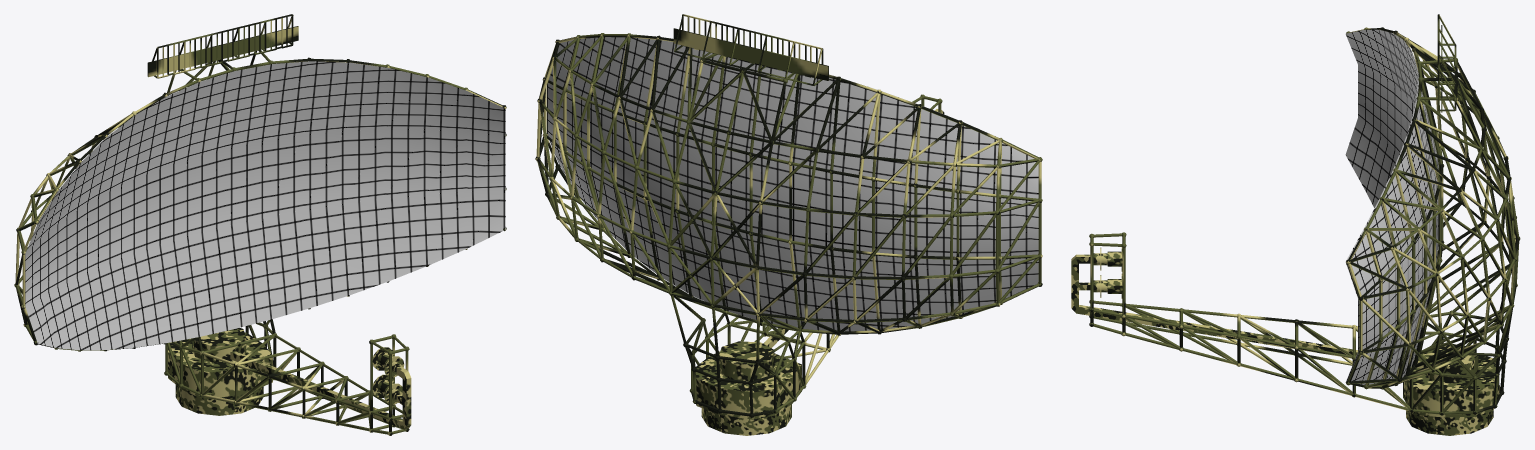
The model's file is part_rotating.fbx.
3 views of the same model, side by side, from view 1: azimuth 30°, elevation 25°; view 2: azimuth 150°, elevation 25°; view 3: azimuth 270°, elevation 25° (orthographic). The views are drawn at different scales.
Visible parts, largest first — view 1: 3d66-Editable_Poly-20185282-001; view 2: 3d66-Editable_Poly-20185282-001; view 3: 3d66-Editable_Poly-20185282-001.
Boxes of the visible parts, bbox=[...] form: 3d66-Editable_Poly-20185282-001: bbox=[14, 14, 506, 435]; 3d66-Editable_Poly-20185282-001: bbox=[535, 14, 1042, 435]; 3d66-Editable_Poly-20185282-001: bbox=[1071, 14, 1520, 435].
Bounding box in the file's own units: 1022 × 746 × 820.
Materials: 2 (2 with a texture image).
